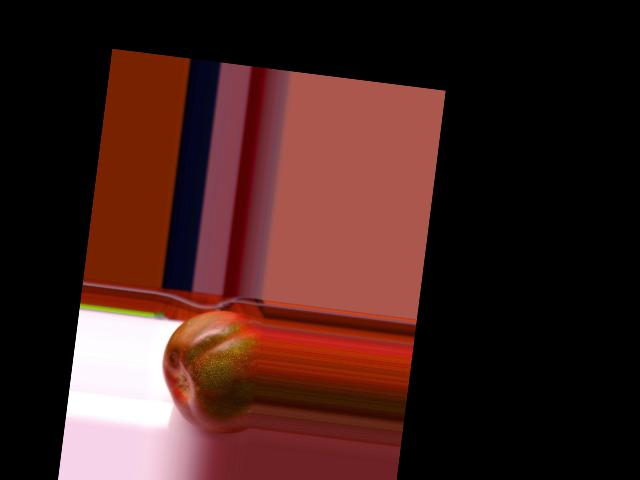tomato: (154, 303, 264, 436)
